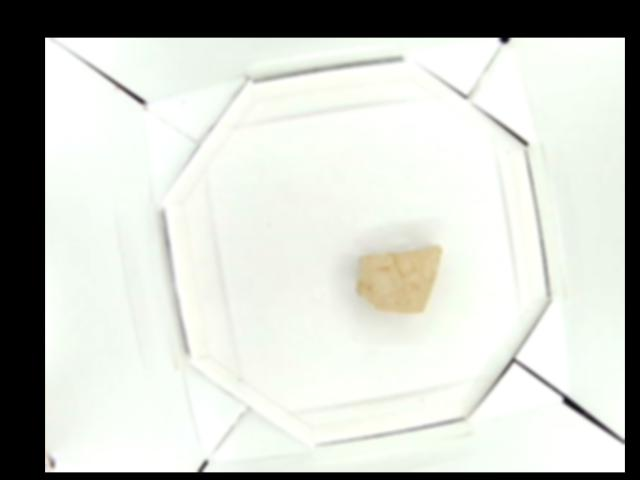China: (359, 244, 444, 314)
